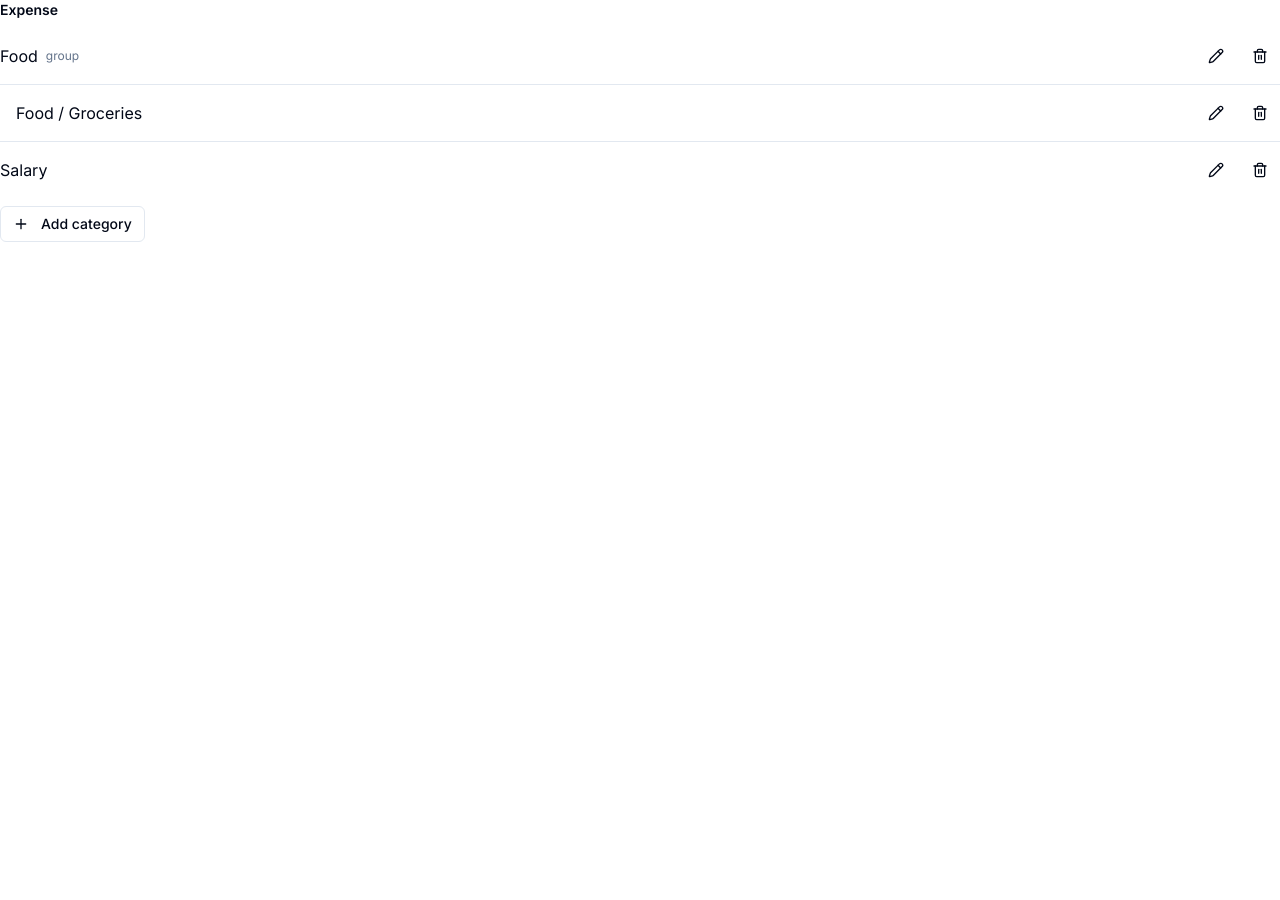
Test case: DictionaryList › surfaces the backend error when deleting a non-empty group
Click the button named "delete food" at coordinates (1260, 56), box 1240,36 -> 1279,76
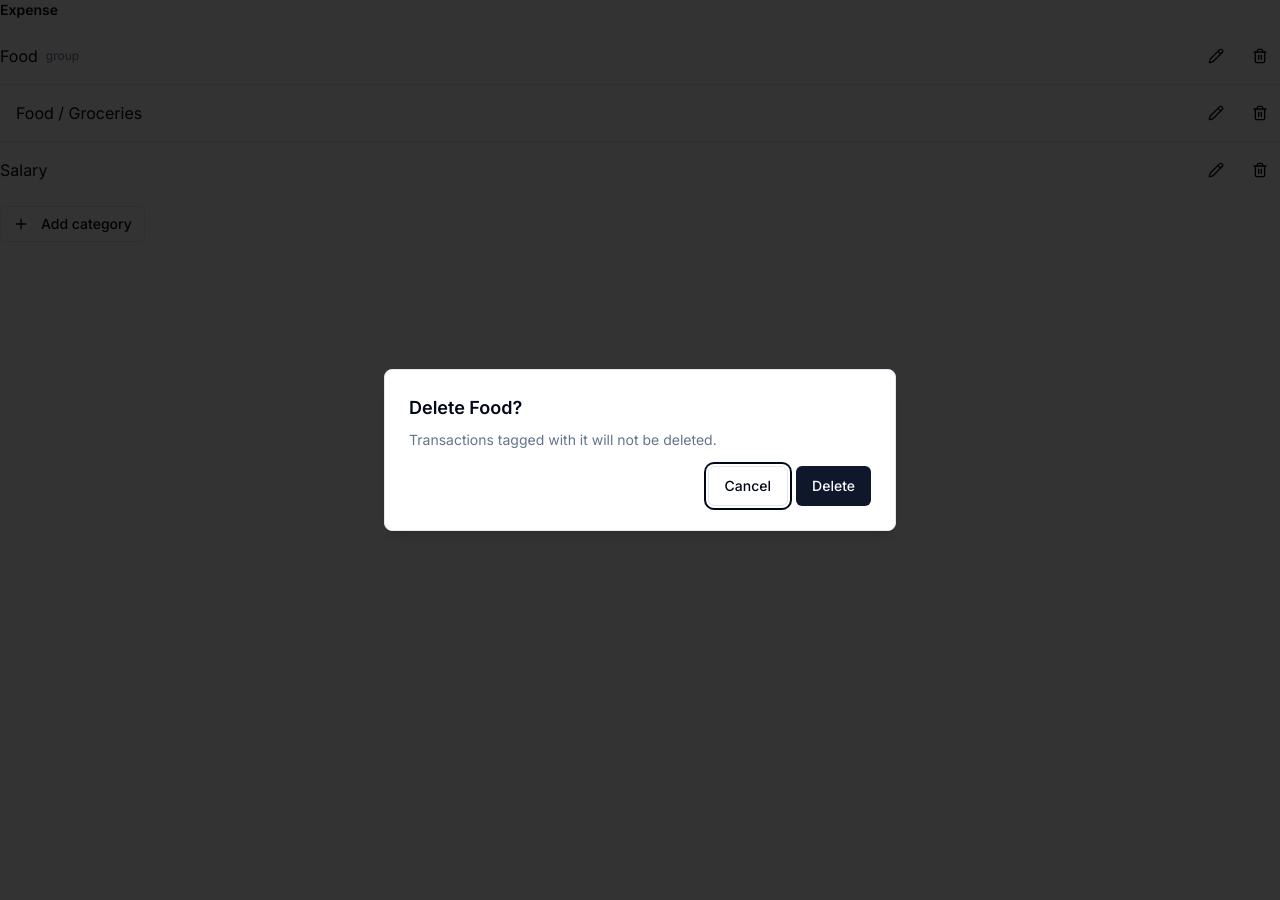
Click the button "Delete" at coordinates (834, 486), box 796,466 -> 871,506
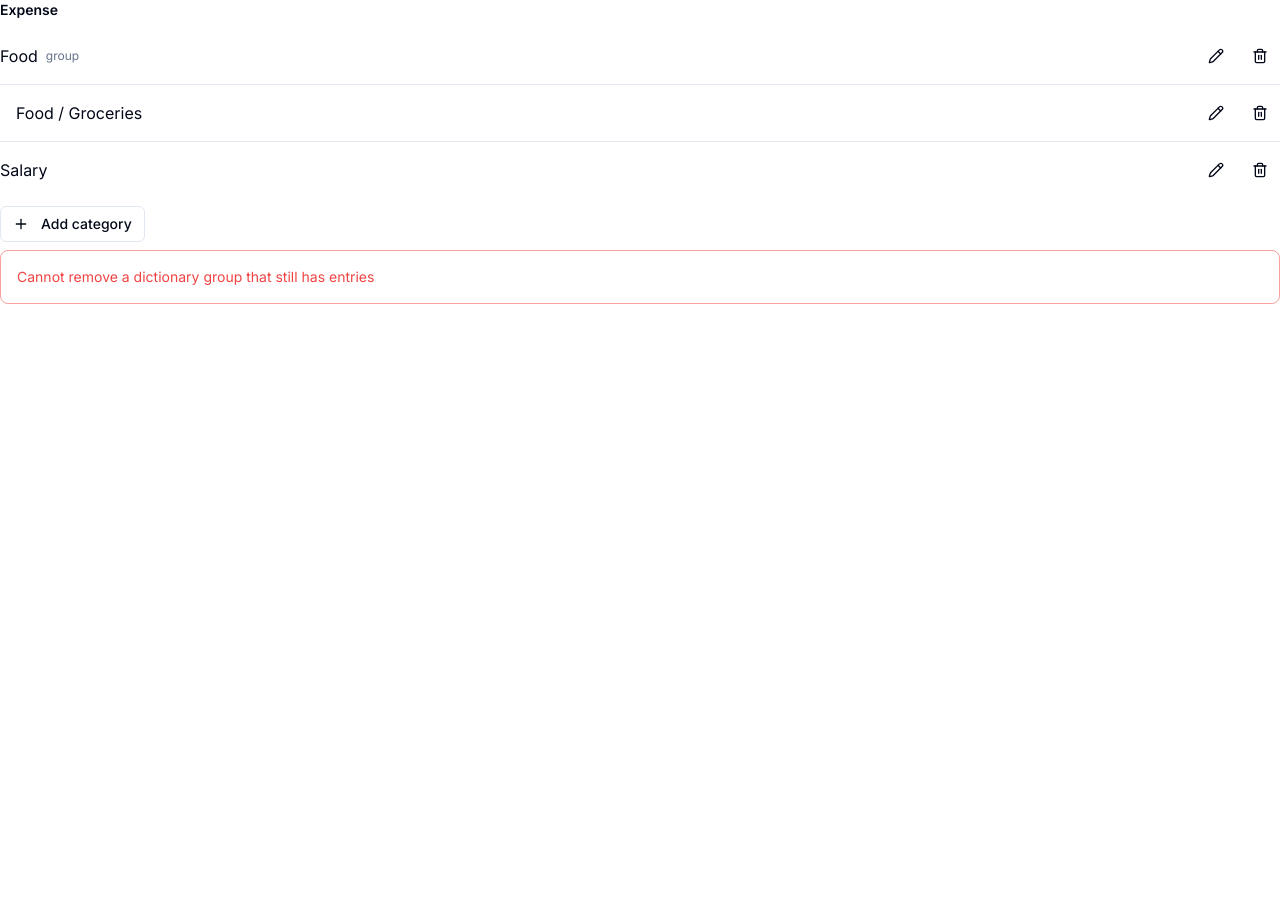
Result: the message shows "still has entries" at 17,268 -> 374,285
